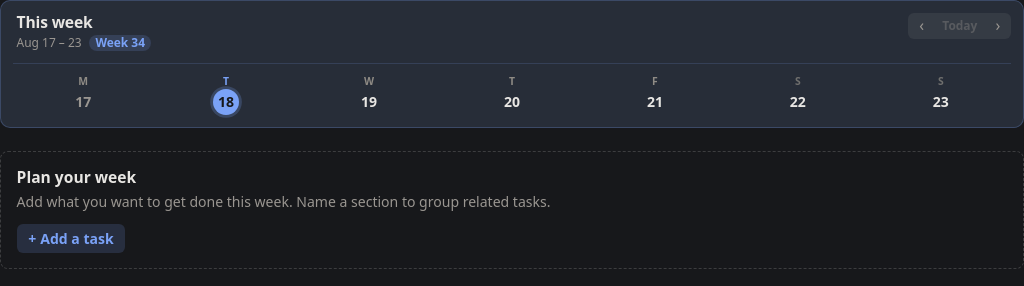
it: WeeklyBoard paging › loads the next week's tasks when paged forward
Expected: the text "This week" is shown, [17,11,92,33]
Click the button named "Next week" at (998, 26), box [987,15,1009,38]
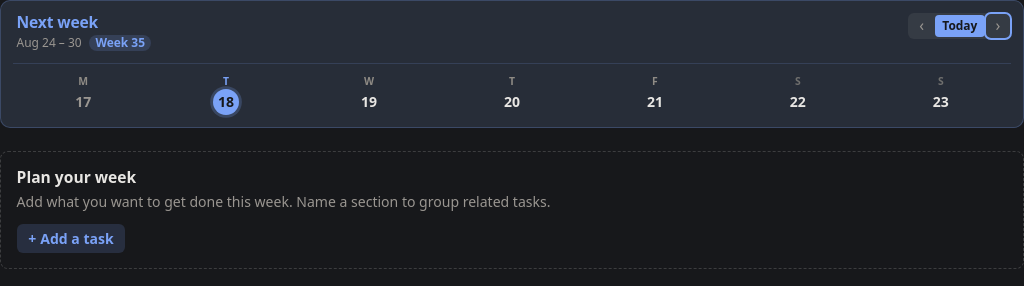
Expected: the text "Next week" is shown, [17,11,98,33]
